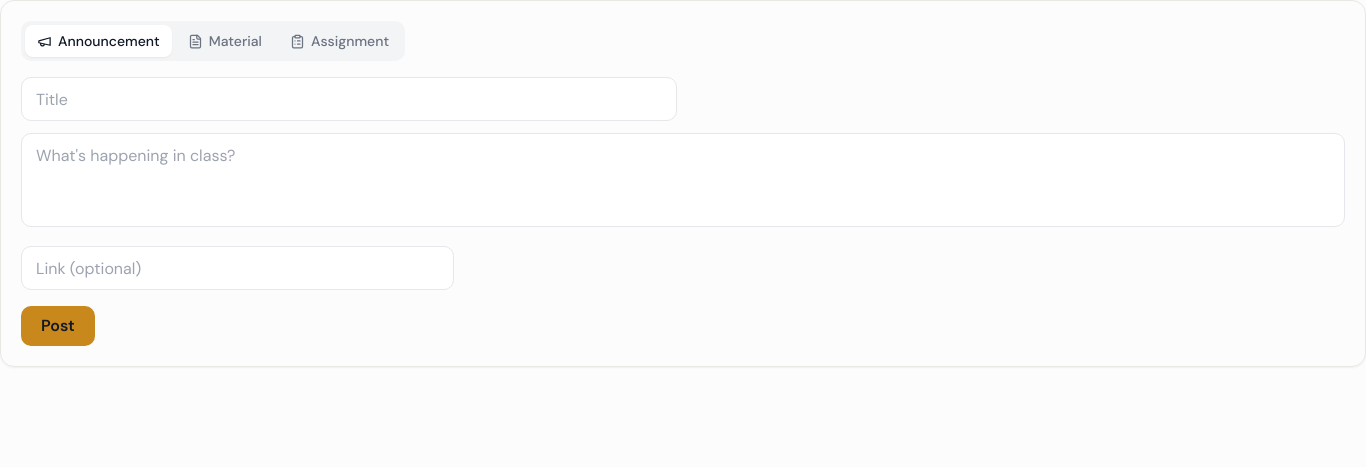
Test: ClassworkComposer › shows an error toast when posting fails
Type "Hello" into the field with placeholder "Title". click: (349, 99)
box: [21,77,677,121]
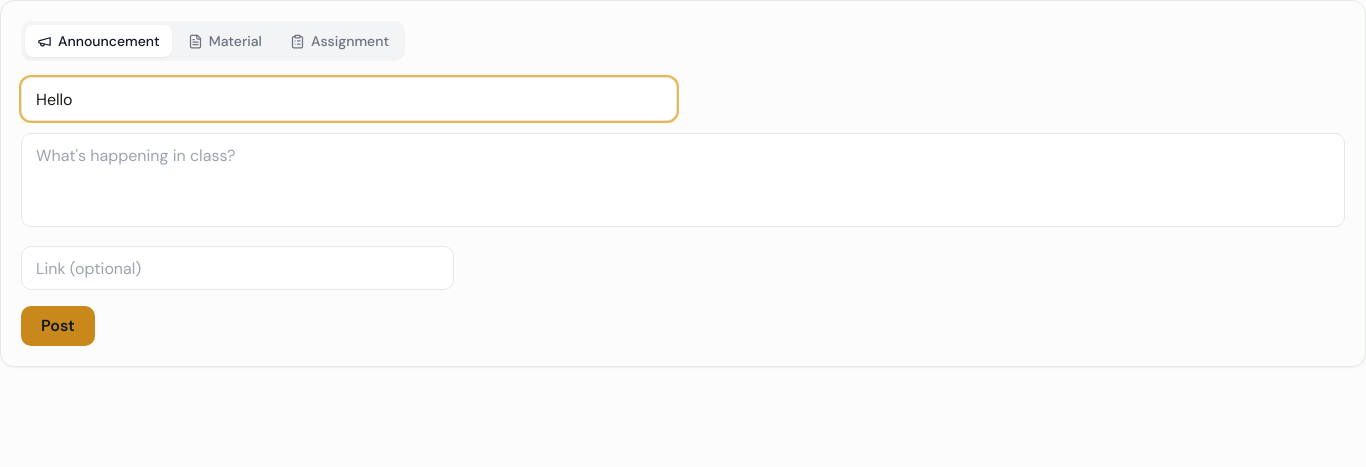
Click the button "Post". click: (58, 326)
box: [21,306,95,346]
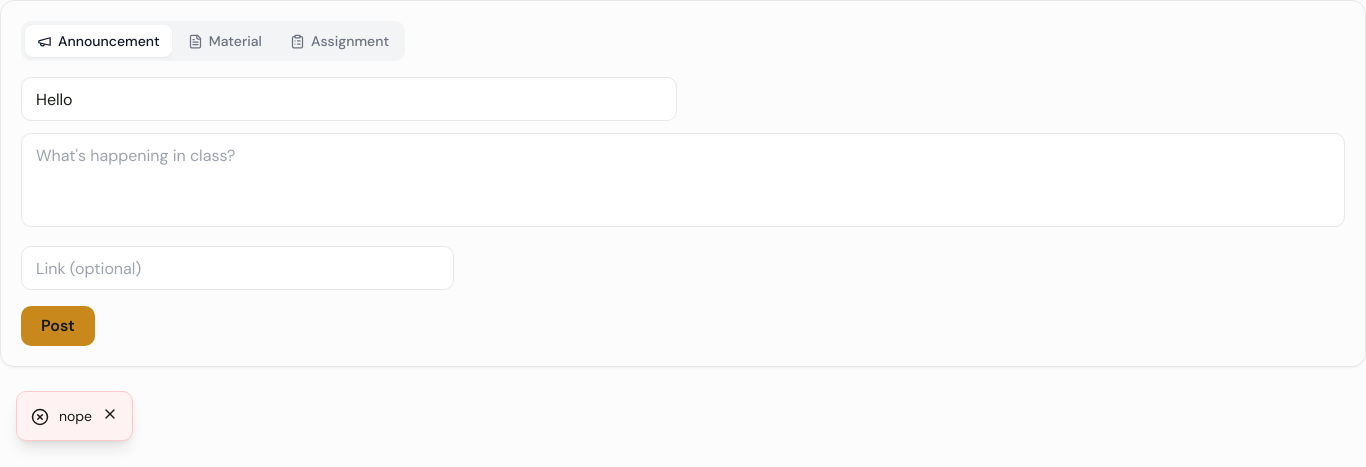
Now the text "nope" is shown, box [59,406,92,426]
